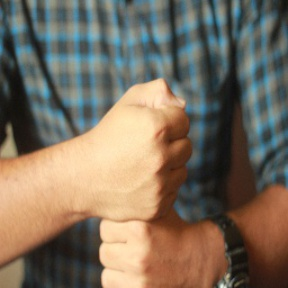G: (91, 77, 197, 288)
